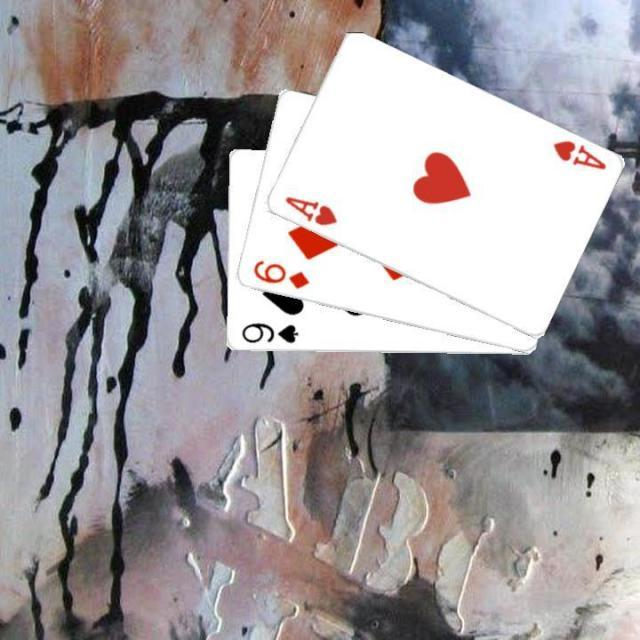6D: (248, 256, 310, 292)
9S: (237, 319, 300, 346)
AH: (548, 136, 608, 172), (280, 193, 339, 228)
